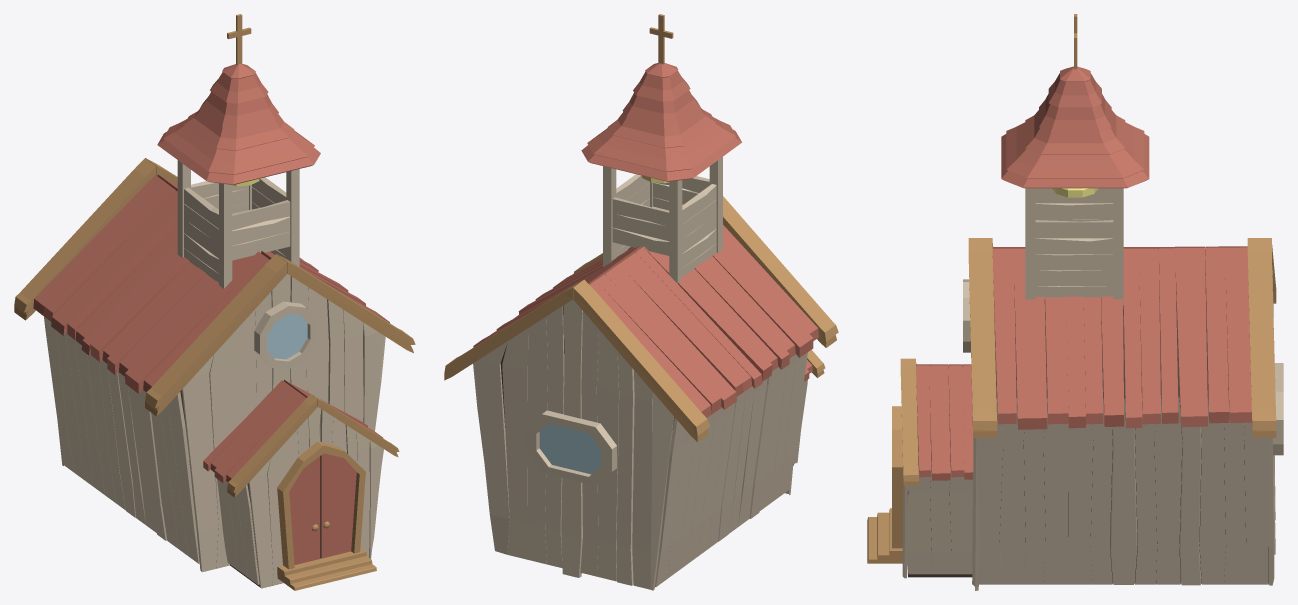
The model's file is Building_Chirch.fbx.
3 renders of one model, left to right at view 1: azimuth 30°, elevation 25°; view 2: azimuth 150°, elevation 25°; view 3: azimuth 270°, elevation 25°, orthographic. The views are drawn at different scales.
Visible parts, largest first — view 1: Building_Chirch; view 2: Building_Chirch; view 3: Building_Chirch.
Boxes of the visible parts, x1,y1,x2,y2 form: Building_Chirch: (14,14,415,590); Building_Chirch: (444,14,838,590); Building_Chirch: (867,14,1283,590).
Bounding box in the file's own units: 698 × 904 × 1288.
